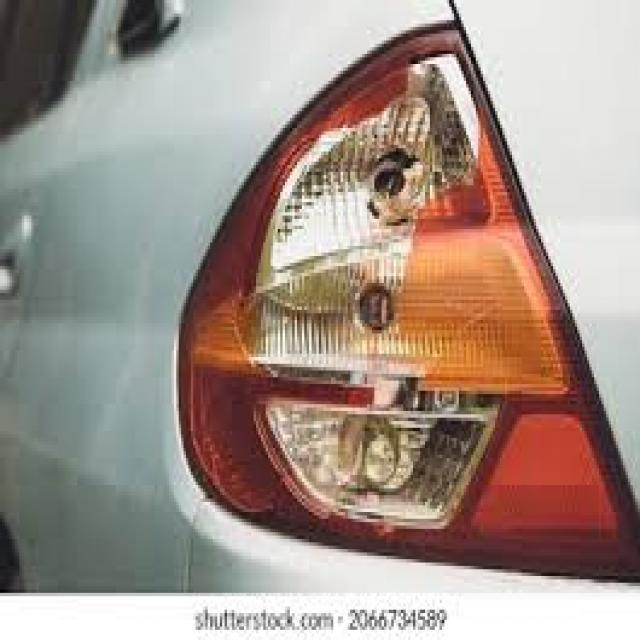damaged-tail-light: (176, 23, 640, 589)
